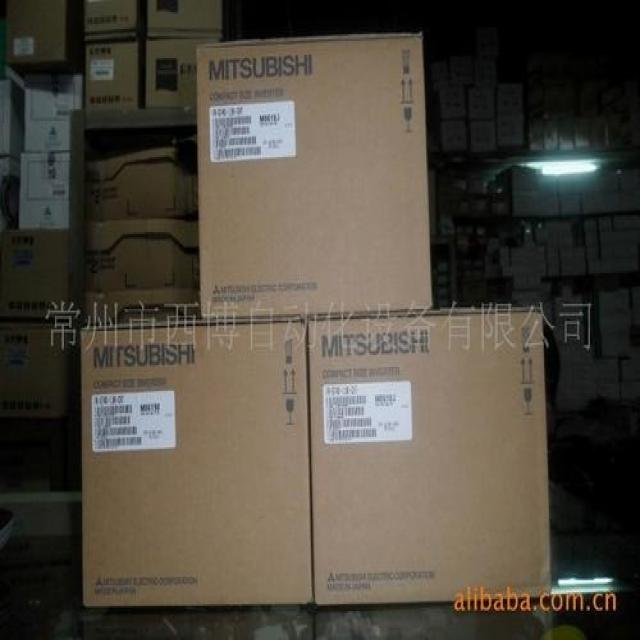box: (311, 307, 552, 604), (196, 32, 434, 317), (82, 321, 312, 606), (83, 220, 200, 324), (84, 147, 198, 222), (0, 317, 83, 416), (0, 225, 83, 323), (145, 38, 223, 109), (18, 155, 87, 229), (4, 0, 67, 63), (84, 44, 140, 114), (22, 90, 83, 152), (148, 0, 224, 38), (84, 0, 137, 41)
